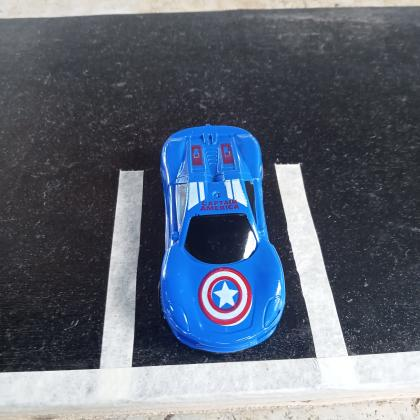Car: (157, 123, 286, 354)
